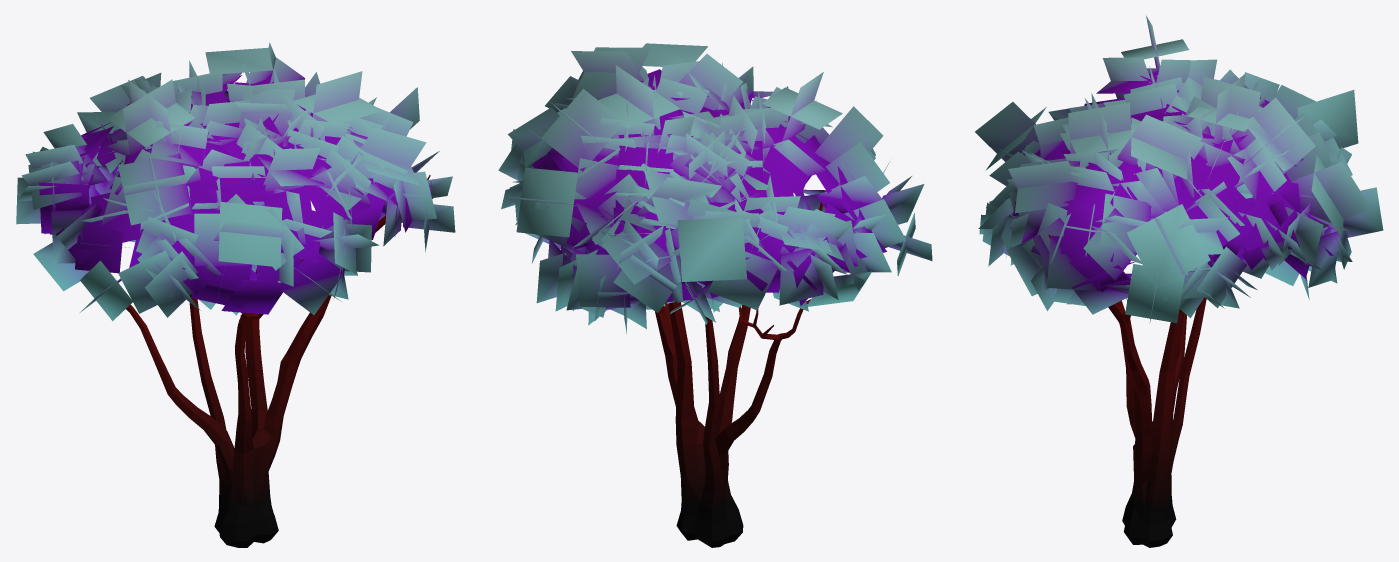
The model's file is SM_Env_Tree_Pohutukawa_03.glb.
The picture shows the model from 3 angles, left to right: view 1: azimuth 30°, elevation 25°; view 2: azimuth 150°, elevation 25°; view 3: azimuth 270°, elevation 25°; orthographic projection. The views are drawn at different scales.
Visible parts, largest first — view 1: SM_Env_Tree_Pohutukawa_03_LOD0; view 2: SM_Env_Tree_Pohutukawa_03_LOD0; view 3: SM_Env_Tree_Pohutukawa_03_LOD0.
Part boxes in pixels (x1,y1,x2,y2): SM_Env_Tree_Pohutukawa_03_LOD0: (16, 42, 455, 547); SM_Env_Tree_Pohutukawa_03_LOD0: (498, 43, 932, 547); SM_Env_Tree_Pohutukawa_03_LOD0: (975, 15, 1383, 547).
Size of what is drawn, in the model's own units: 4.2 by 4.89 by 3.87.
